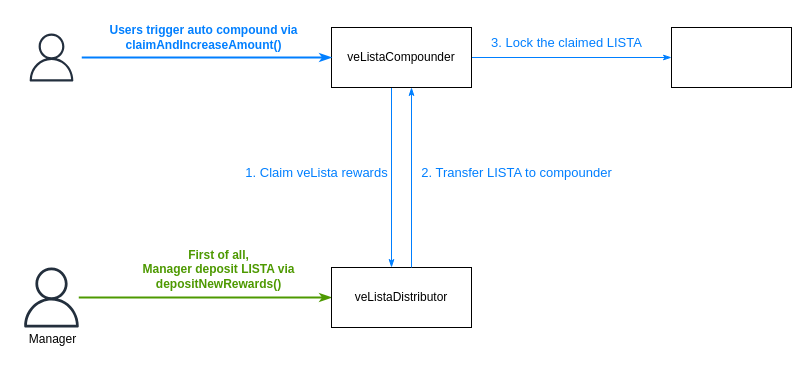
This 809x371 diagram has some shape labels left out. Here are the shapes that lost their labels. From the top down, the box of each, then its label:
(20, 26, 82, 88): User
(670, 26, 792, 88): veLista
